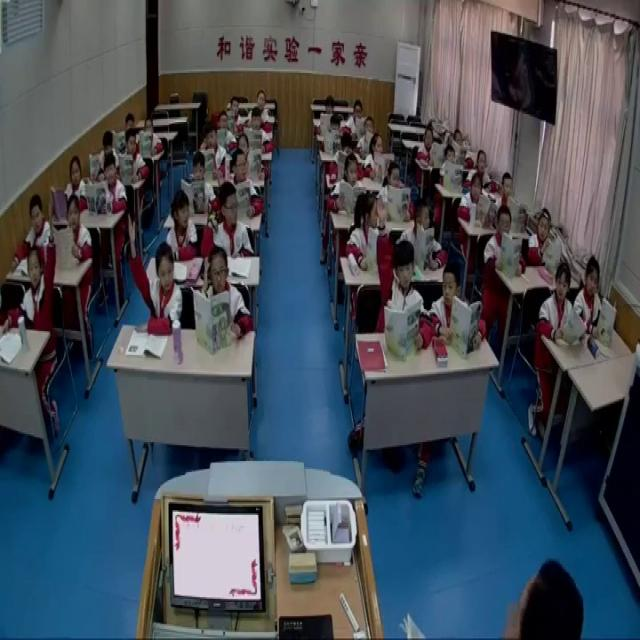distracted: (347, 193, 385, 278), (406, 200, 446, 270)
focused: (431, 261, 485, 357), (212, 182, 254, 260), (540, 261, 577, 348), (577, 257, 613, 339), (486, 205, 522, 279), (13, 198, 52, 266), (227, 149, 262, 221), (60, 192, 92, 269), (168, 185, 201, 259), (332, 156, 369, 214), (379, 161, 412, 222), (99, 149, 130, 213), (526, 210, 558, 268), (182, 152, 215, 208), (202, 121, 228, 184), (64, 156, 91, 216), (459, 172, 488, 226), (362, 129, 393, 179), (93, 127, 120, 180), (123, 128, 149, 180), (246, 109, 273, 158), (248, 85, 274, 132), (440, 145, 464, 191), (140, 112, 164, 156), (355, 114, 379, 156), (472, 145, 492, 195), (346, 100, 370, 139), (418, 127, 439, 171), (317, 93, 338, 135), (233, 135, 255, 175), (324, 114, 343, 158), (499, 174, 517, 217), (216, 107, 232, 147), (454, 126, 469, 168), (229, 94, 244, 132)
raising_hand: (374, 197, 432, 352), (126, 212, 182, 332), (14, 193, 59, 339), (199, 248, 254, 345)
